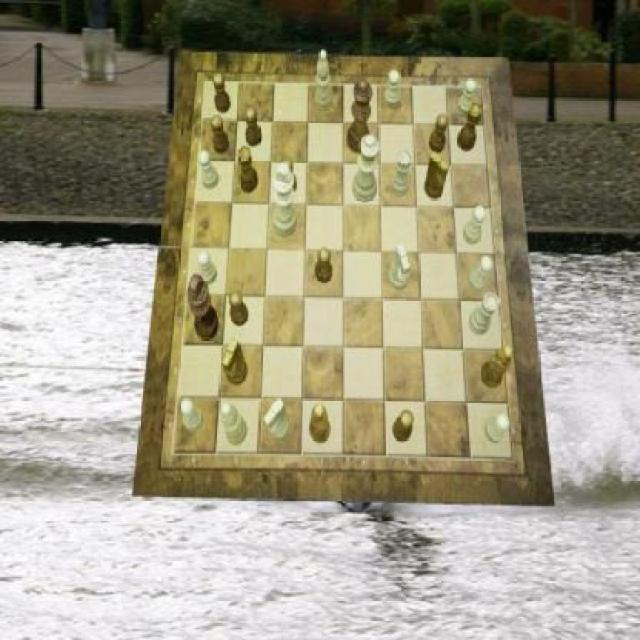bishop: (480, 345, 513, 387), (310, 404, 332, 444)
black-bishop: (188, 274, 220, 340)
black-king: (426, 152, 451, 200), (223, 338, 249, 384)
black-knight: (211, 116, 230, 156), (229, 291, 249, 325), (431, 114, 448, 154), (214, 74, 231, 114), (280, 157, 297, 195), (394, 411, 414, 443), (246, 108, 262, 148), (315, 248, 333, 282)
black-pawn: (348, 78, 374, 154)
black-queen: (457, 103, 481, 152), (237, 146, 258, 194)
black-rook: (315, 49, 333, 112), (223, 402, 248, 446)
white-bishop: (272, 162, 297, 236)
white-king: (264, 397, 290, 439), (389, 243, 412, 289)
white-knight: (469, 255, 494, 293), (463, 206, 486, 245), (180, 397, 203, 431), (457, 78, 477, 117), (200, 151, 220, 189), (486, 414, 511, 444), (197, 249, 217, 284), (385, 71, 400, 109)
white-pawn: (352, 134, 380, 201)
white-queen: (469, 292, 500, 335), (389, 149, 412, 197)
